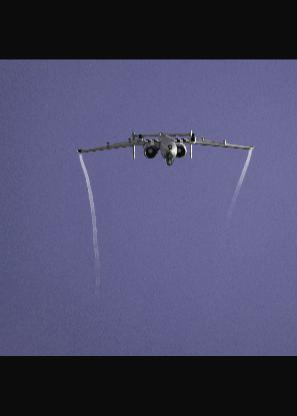A10: (77, 130, 254, 166)
